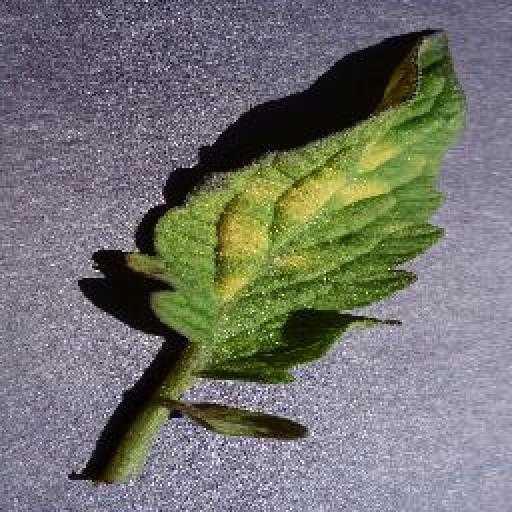disease_tomato: (126, 28, 468, 386)
